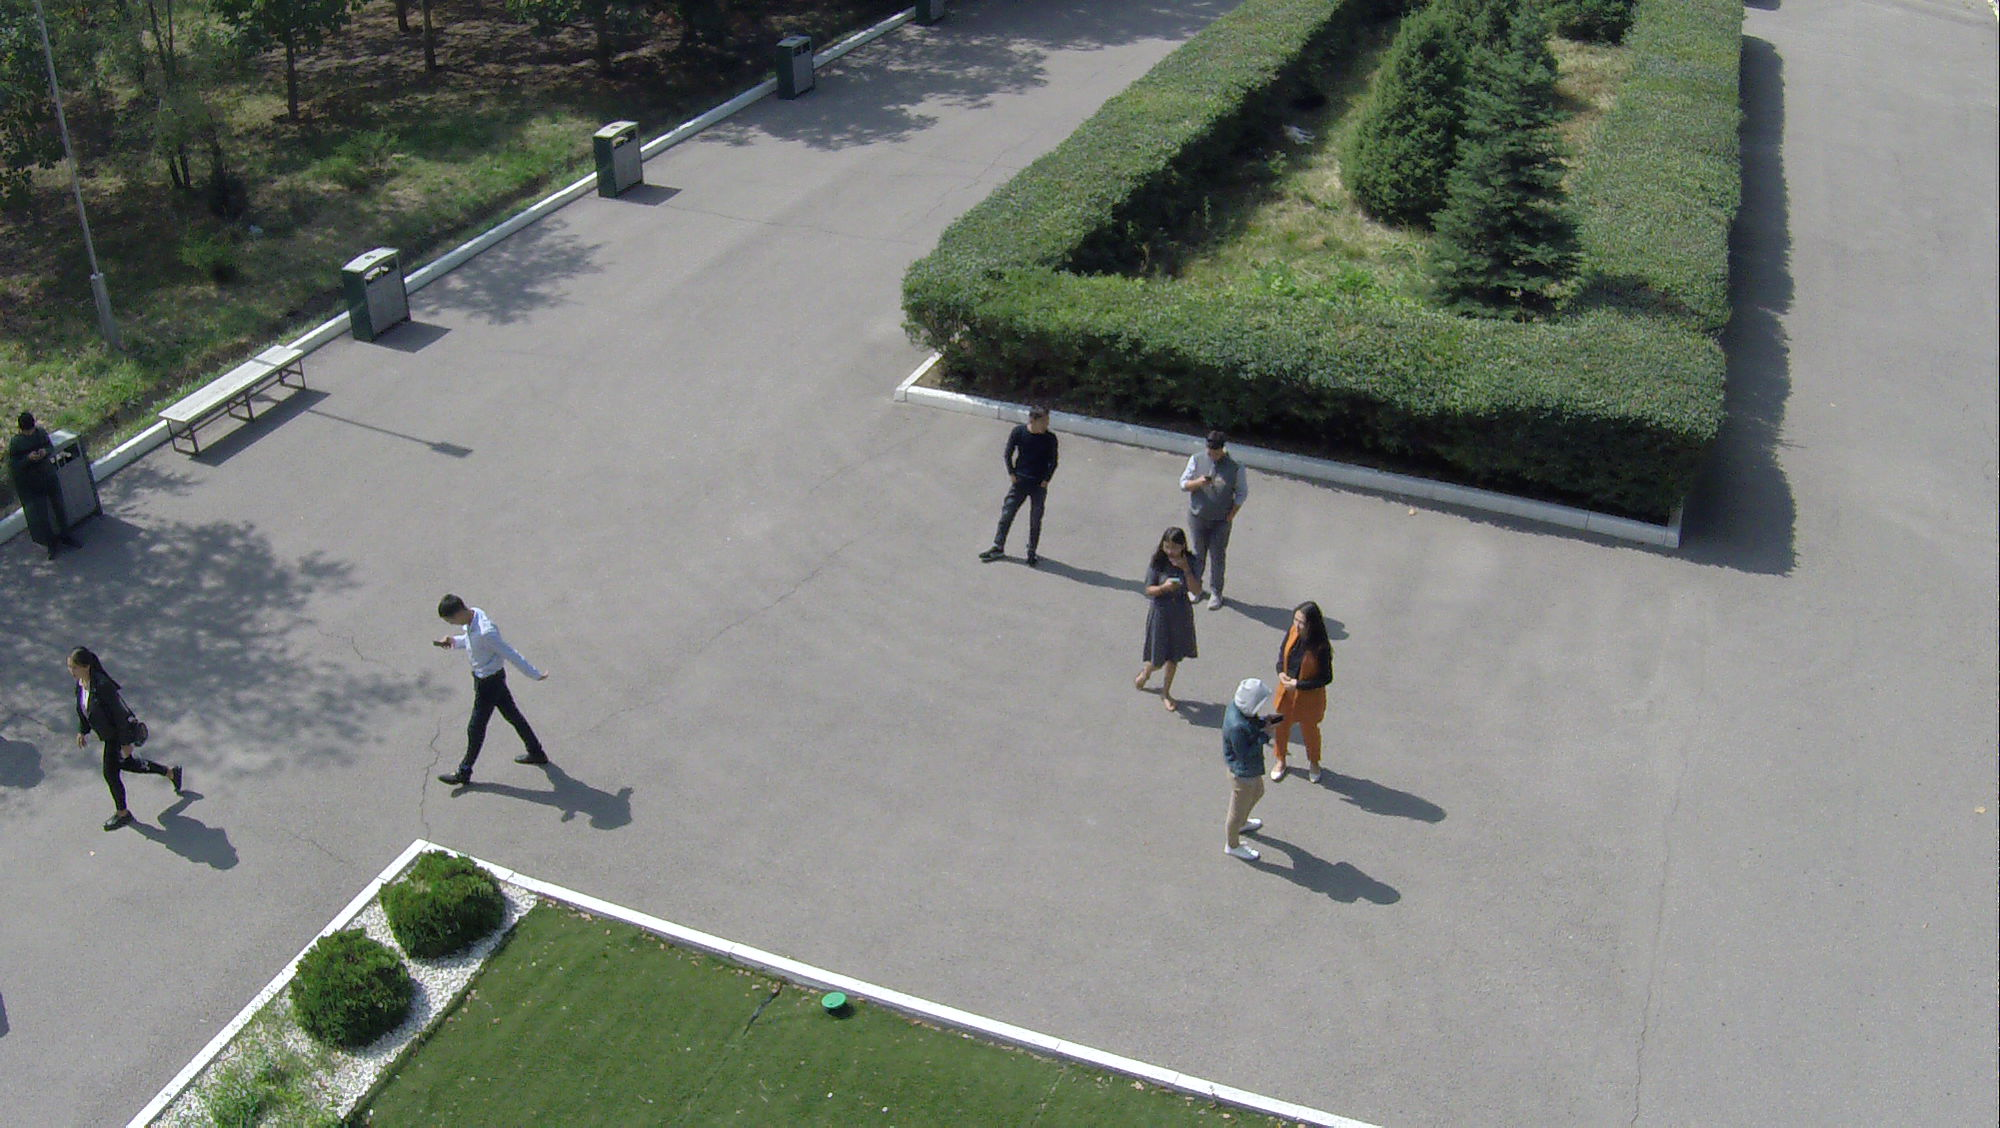person: (420, 599, 566, 799), (72, 628, 187, 855), (1262, 587, 1351, 789), (982, 403, 1072, 580), (1176, 428, 1249, 622), (1218, 672, 1287, 864), (1139, 528, 1205, 710)
